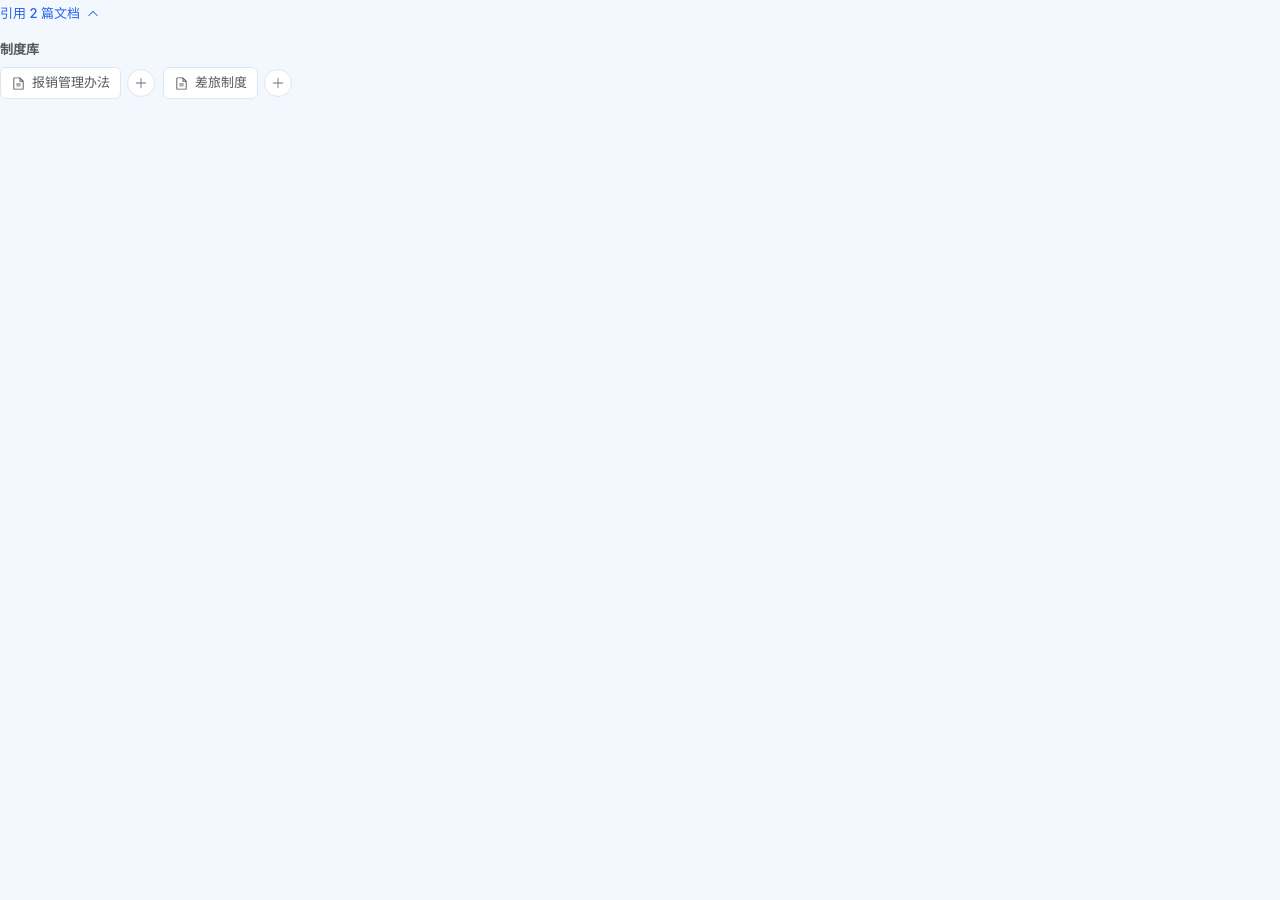
Test: DataHubCitationChips › 每个 chip 旁都有浏览片段按钮，点开加载切块
The width and height of the screenshot is (1280, 900).
Check: the button named "浏览文档片段：报销管理办法" is shown, box [127, 69, 155, 97]
Step 1. Click the button named "浏览文档片段：差旅制度" → (278, 83), box [264, 69, 292, 97]
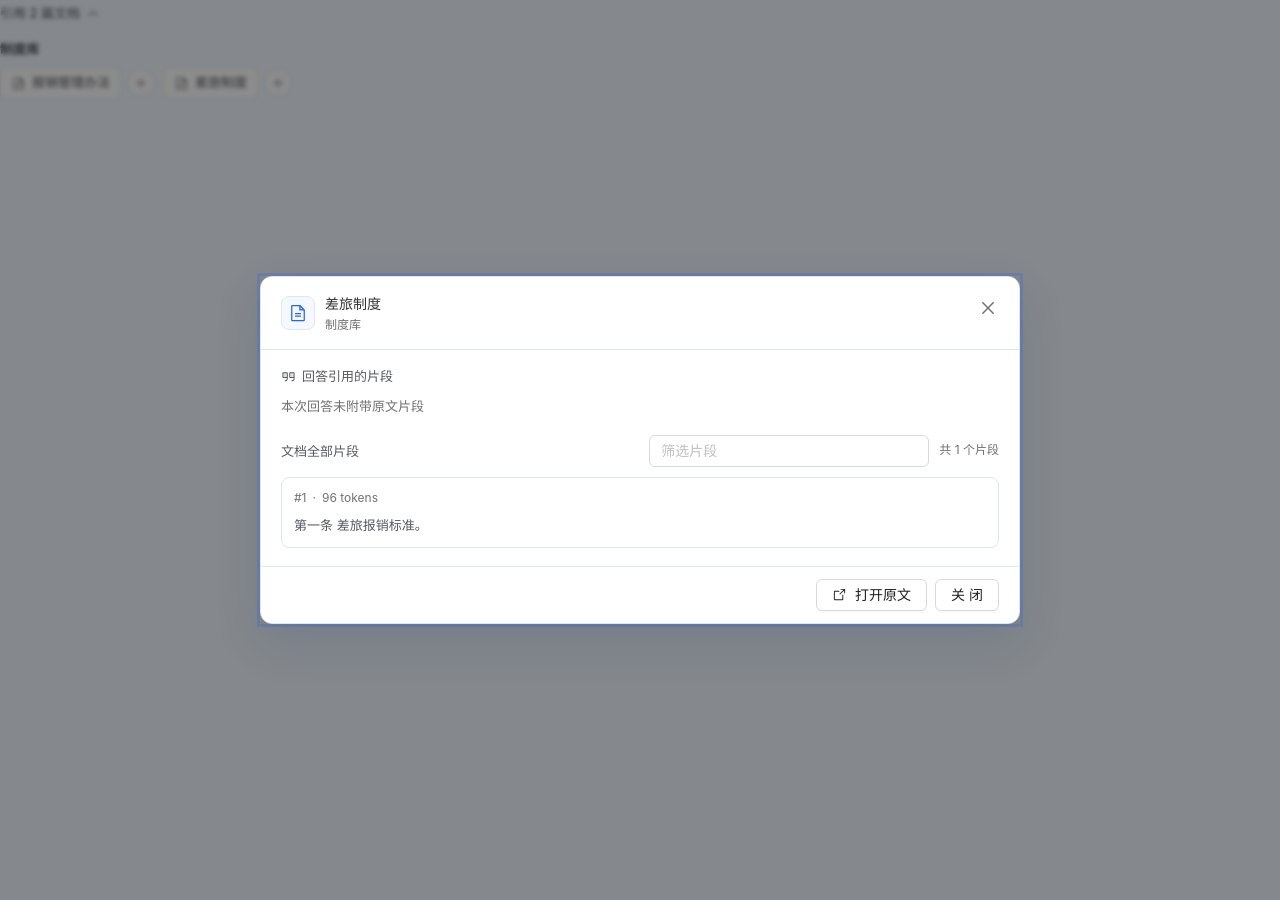
Check: the text "第一条 差旅报销标准。" is shown, box [294, 517, 428, 533]
Check: the text "共 1 个片段" is shown, box [939, 441, 999, 460]
